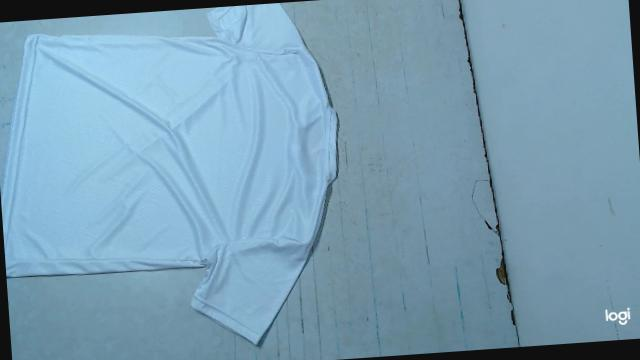new-garment: (0, 3, 337, 343)
